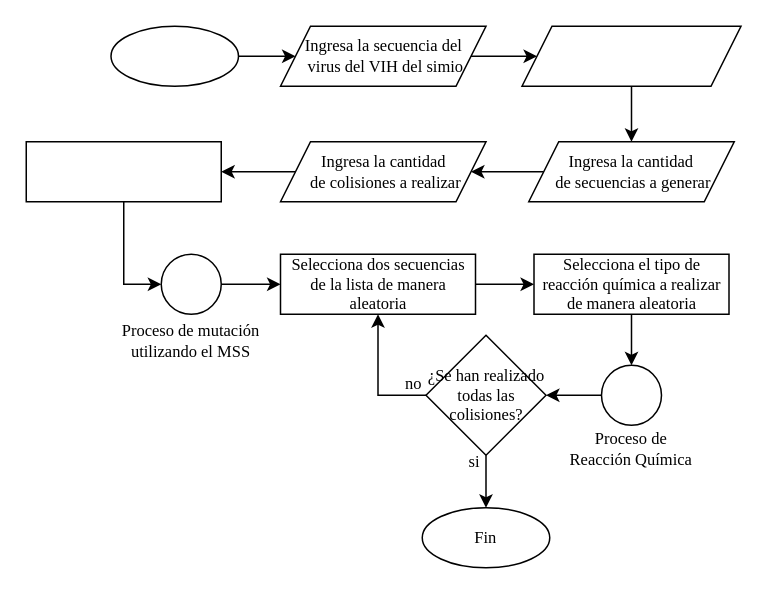
Some shapes in this 768 by 594 pixel diagram are drawn without their labels. The centre of each missing label's shape, as x and y in pixels:
Genera una lista de "n" secuencias mutadas con el genoma del VIH del simio: point (123, 171)
Ingresa la secuencia del virus del VIH del homo sapiens: point (630, 55)
Inicio: point (174, 55)
